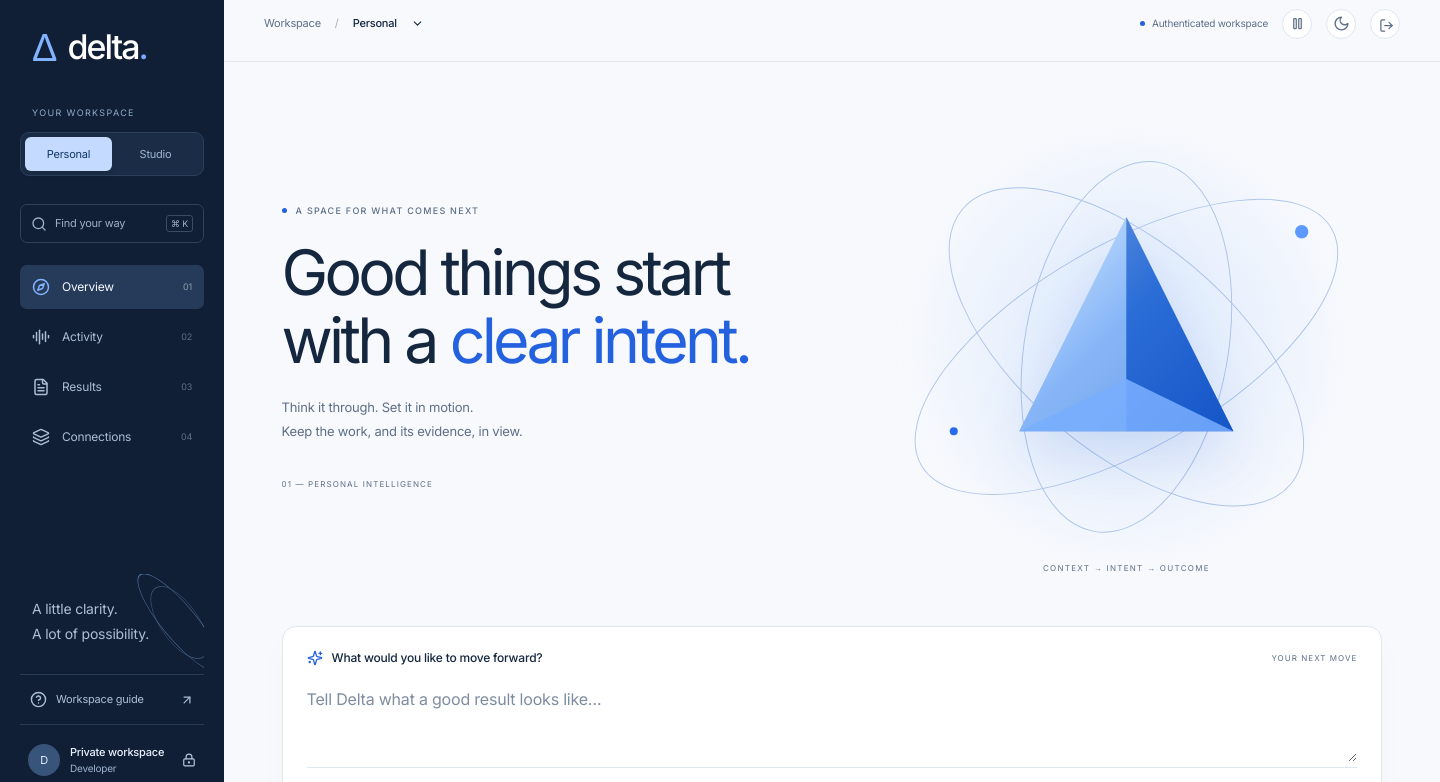
Test case: allows developer fixtures while keeping private execution, repositories and runtime hidden
The image size is (1440, 782).
Click the button "Studio" at (156, 154), box [112,136,199,171]
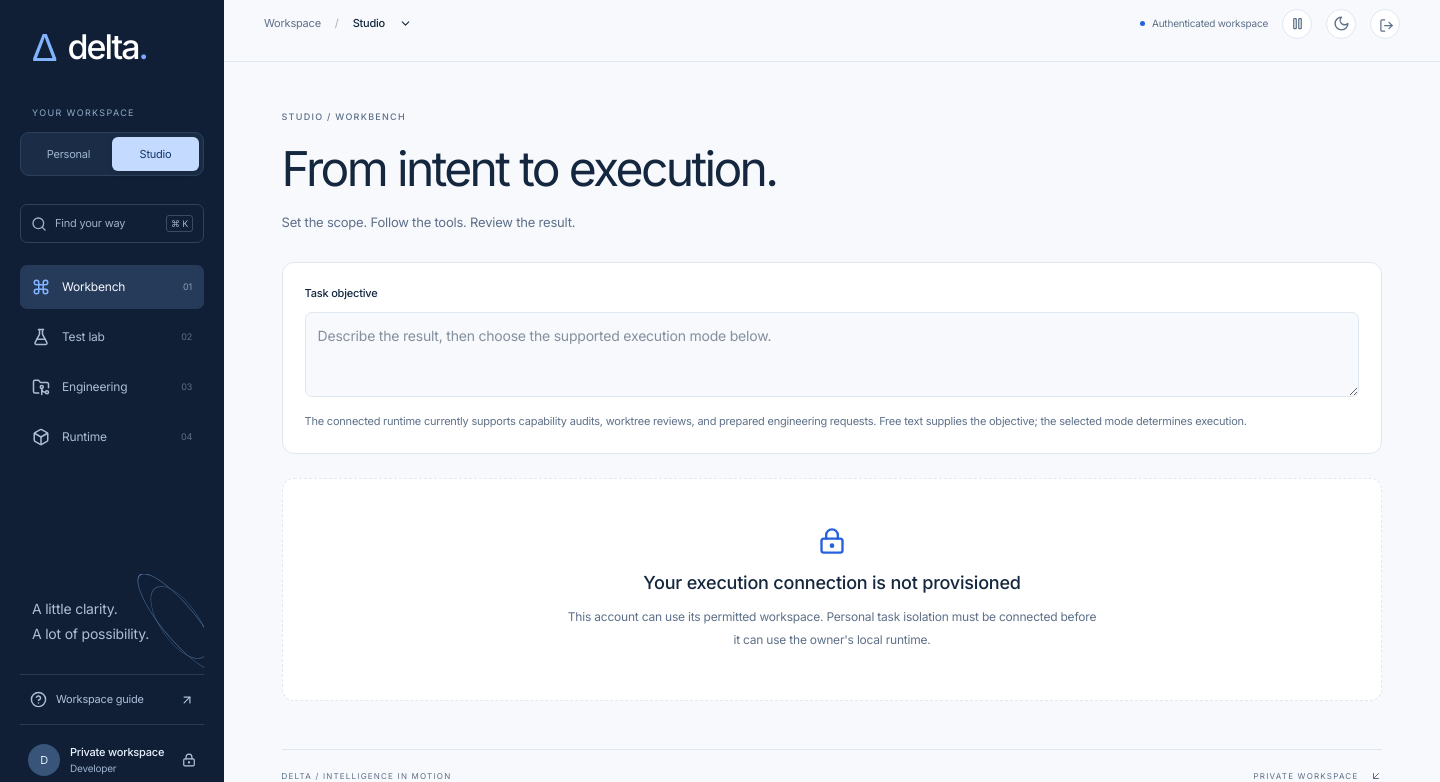
Expected: the heading "Your execution connection is not provisioned" is shown, [643,572,1021,594]
Click the button "Engineering 03" at (112, 387), box [20,365,204,409]
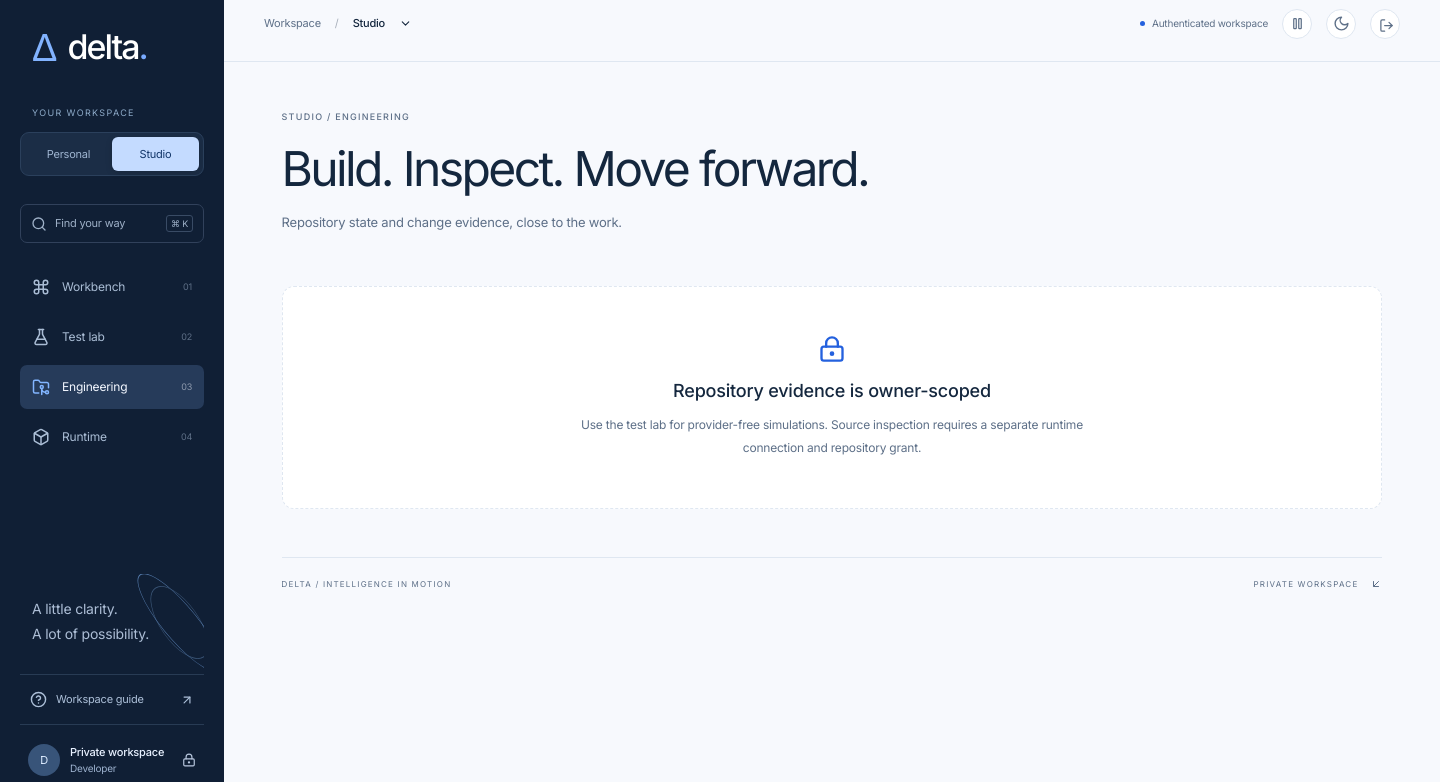
Expected: the heading "Repository evidence is owner-scoped" is shown, [673,380,991,401]
Click the button "Runtime 04" at (112, 437), box [20,415,204,459]
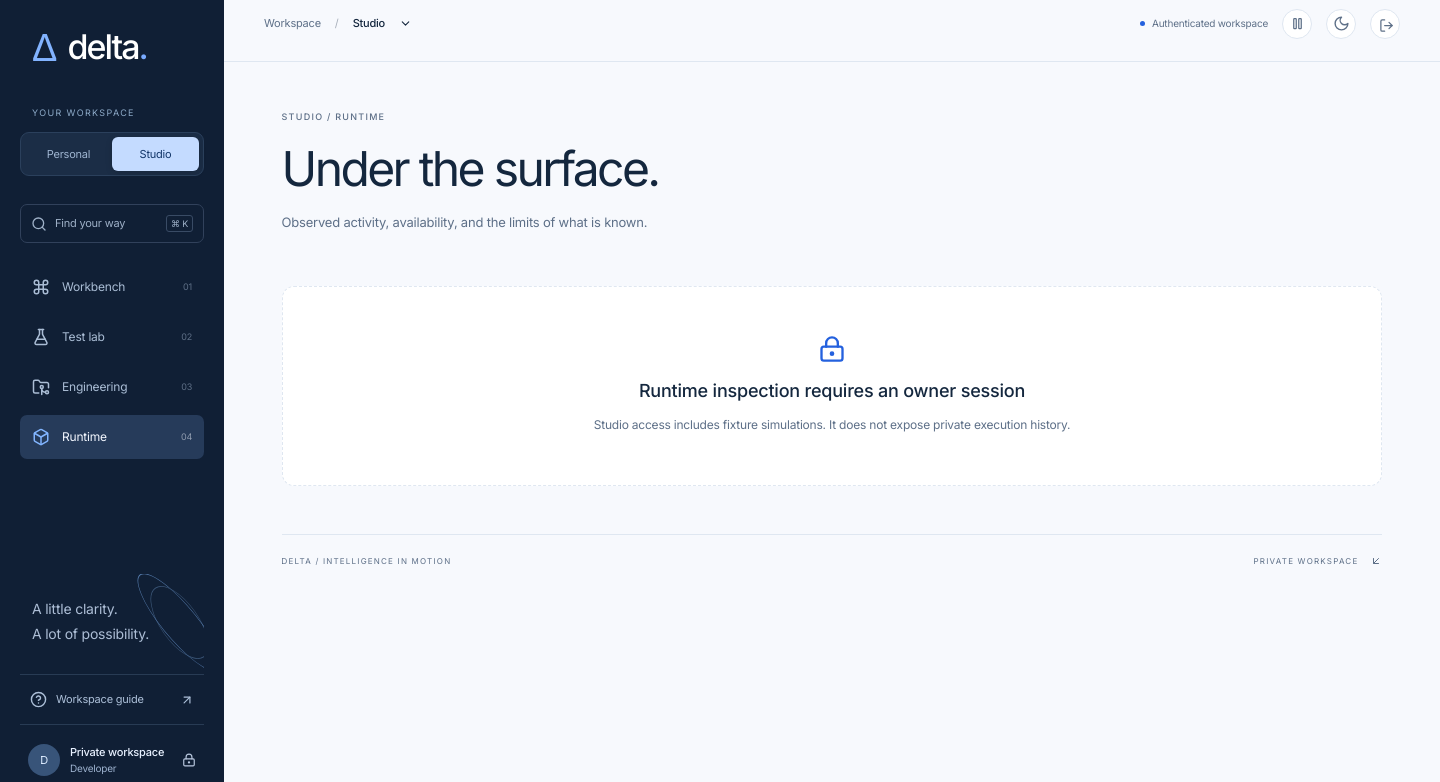
Expected: the heading "Runtime inspection requires an owner session" is shown, [639,380,1025,401]
Click the button "Test lab 02" at (112, 337), box [20,315,204,359]
(page scrolled)
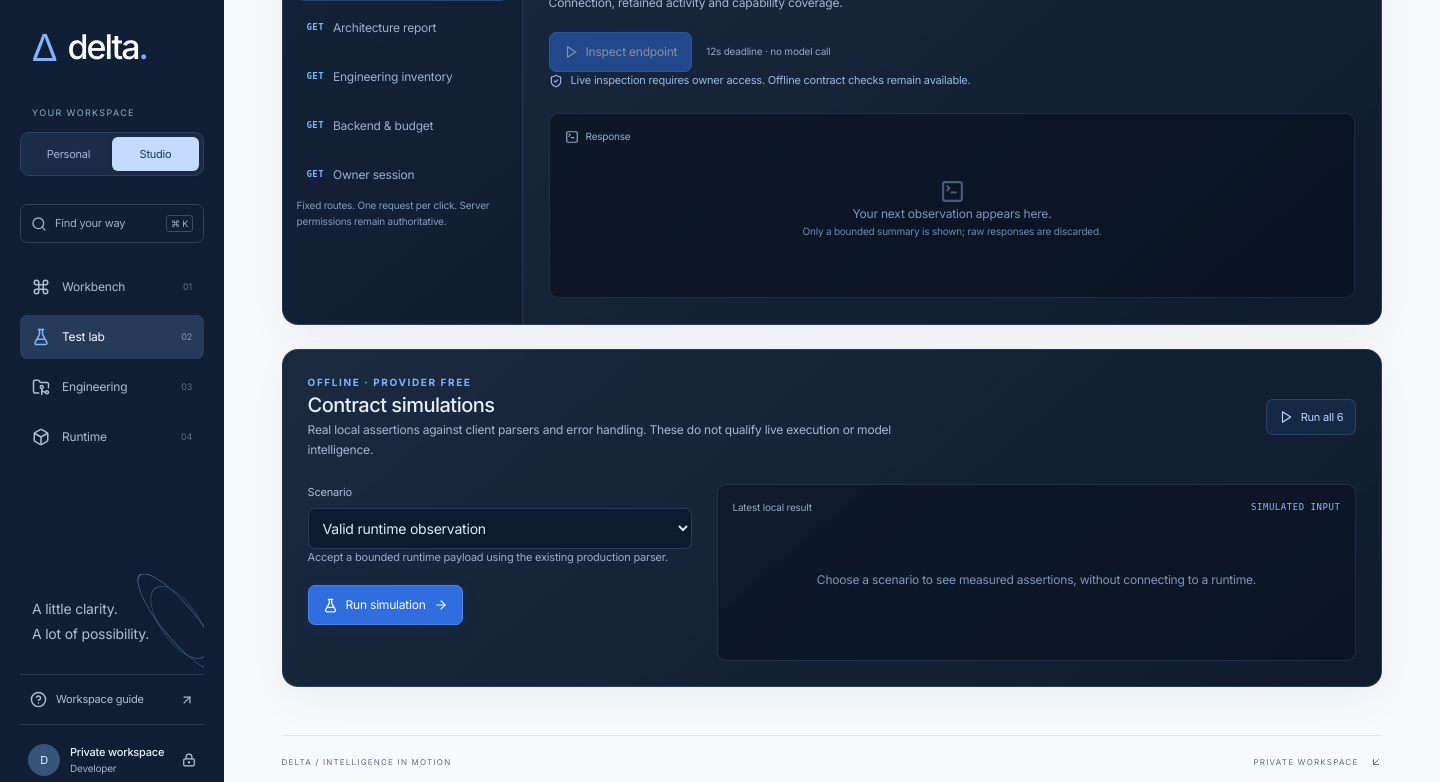
Expected: the button "Inspect endpoint" is disabled, [549,32,692,72]
Click the button "Run simulation" at (385, 605), box [308,585,463,625]
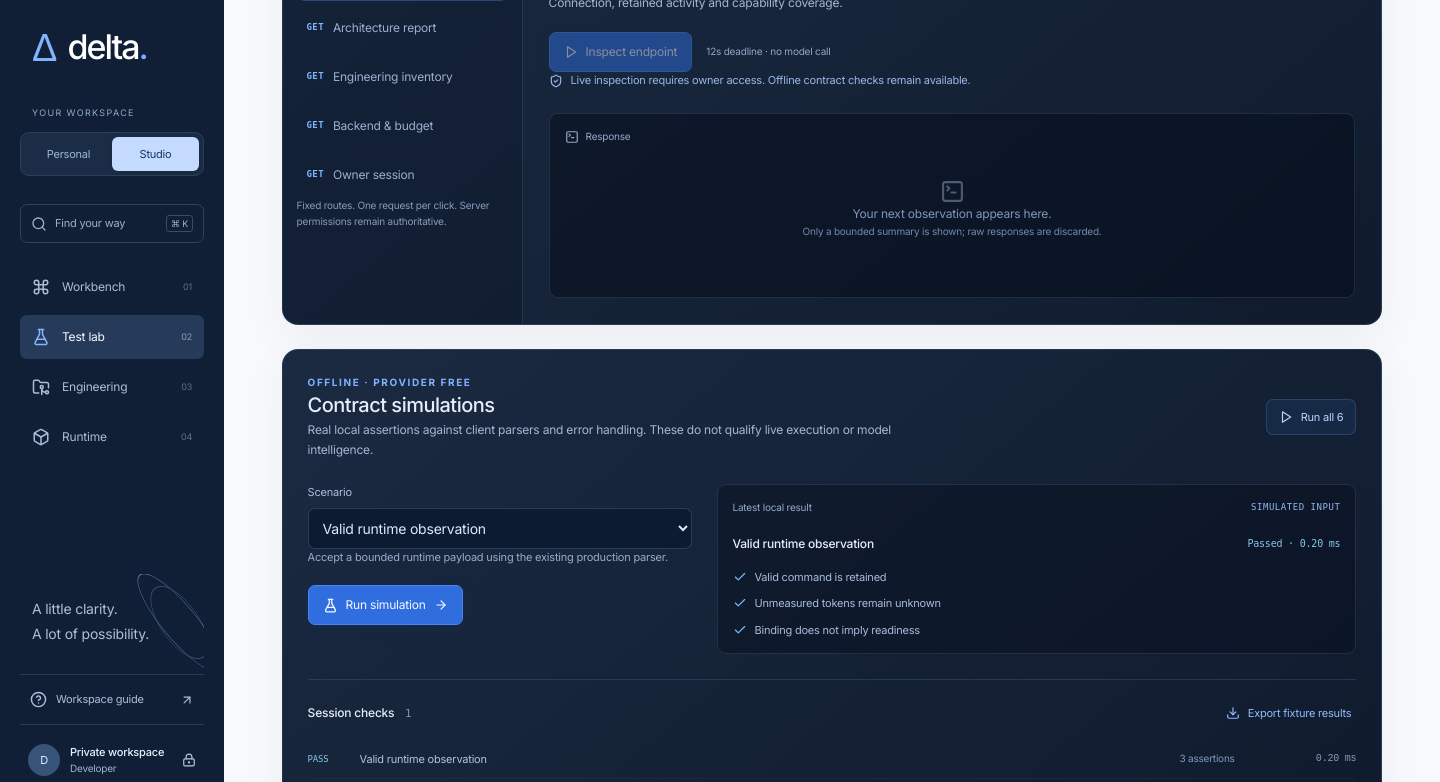
Expected: the text "Valid command is retained" is shown, [754,569,886,585]
